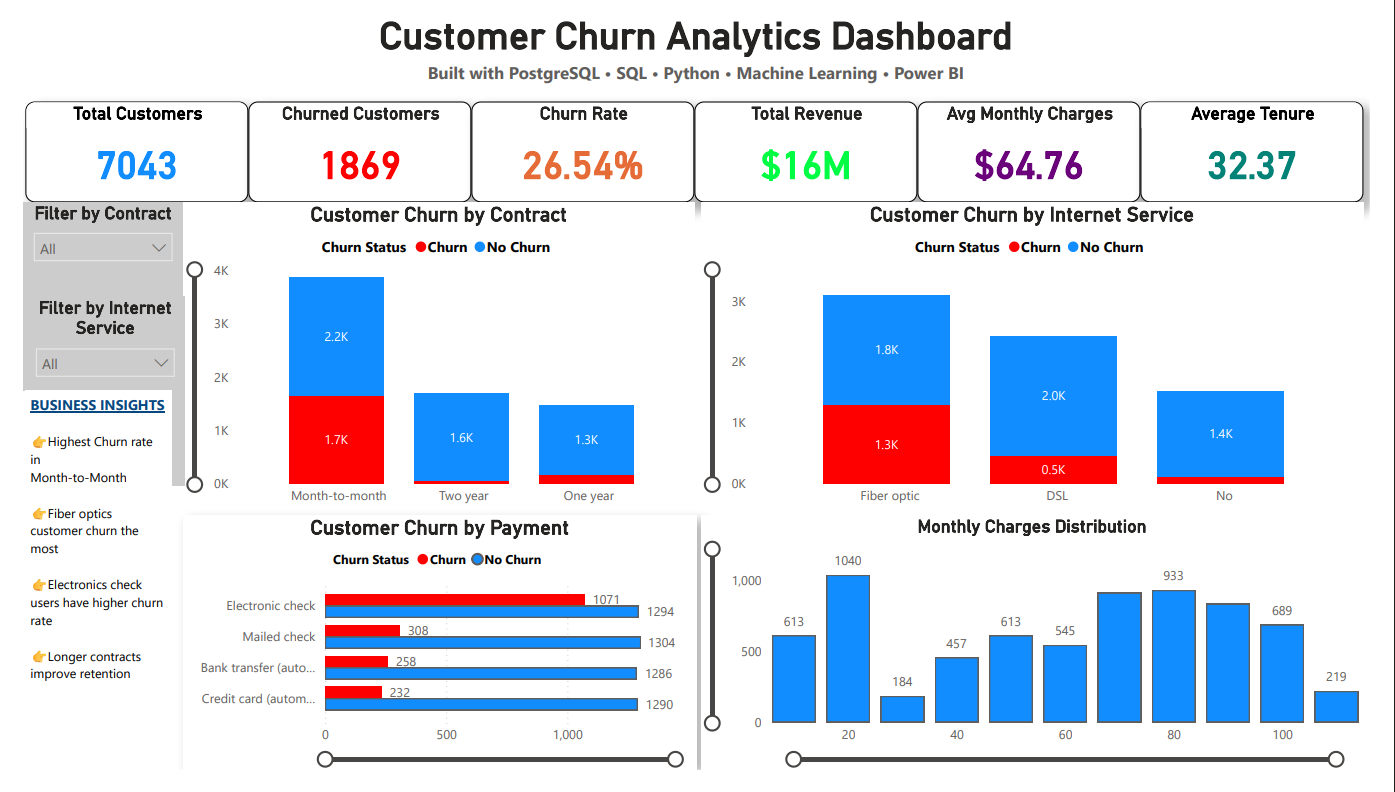

This screenshot's page, from the dashboard's own definition file:
{"tool":"powerbi","page":{"name":"Executive Dashboard","canvas":[1280,720],"ordinal":0},"visuals":[{"type":"card","title":"Total Customers","fields":{"Values":["customer_churn_cleaned.Total Customers"]},"box":[2,84,212,95.5],"z":0},{"type":"card","title":"Churned Customers","fields":{"Values":["customer_churn_cleaned.Churned Customers"]},"box":[213.7,84,212.1,95.5],"z":1000},{"type":"card","title":"Churn Rate","fields":{"Values":["customer_churn_cleaned.Churn Rate"]},"box":[425.9,84,212.1,95.5],"z":2000},{"type":"card","title":"Total Revenue","fields":{"Values":["customer_churn_cleaned.Total Revenue"]},"box":[638,84,212.1,95.5],"z":3000},{"type":"card","title":"Avg Monthly Charges","fields":{"Values":["customer_churn_cleaned.Average Monthly Charges"]},"box":[850.1,84,212.1,95.5],"z":4000},{"type":"card","title":"Average Tenure","fields":{"Values":["customer_churn_cleaned.Average Tenure"]},"box":[1062.2,84.2,212,95.5],"z":5000},{"type":"textbox","title":"Customer Churn Analytics Dashboard","box":[294.7,0,689.8,74.5],"z":6000},{"type":"columnChart","title":"Customer Churn by Contract","fields":{"Category":["customer_churn_cleaned.contract"],"Y":["CountNonNull(customer_churn_cleaned.customer_id)"],"Series":["customer_churn_cleaned.Churn Status"]},"box":[152.2,179.7,485.8,297.9],"z":7000},{"type":"columnChart","title":"Customer Churn by Internet Service","fields":{"Category":["customer_churn_cleaned.internet_service"],"Y":["CountNonNull(customer_churn_cleaned.customer_id)"],"Series":["customer_churn_cleaned.Churn Status"]},"box":[644.5,179.7,629.9,297.9],"z":8000},{"type":"clusteredBarChart","title":"Customer Churn by Payment ","fields":{"Category":["customer_churn_cleaned.payment_method"],"Series":["customer_churn_cleaned.Churn Status"],"Y":["CountNonNull(customer_churn_cleaned.customer_id)"]},"box":[152.2,477.7,487.4,242.9],"z":9000},{"type":"columnChart","title":"Monthly Charges Distribution","fields":{"Category":["customer_churn_cleaned.monthly_charges (bins)"],"Y":["CountNonNull(customer_churn_cleaned.customer_id)"]},"box":[644.5,477.7,629.9,242.9],"z":10000},{"type":"slicer","title":"Filter by Contract","fields":{"Values":["customer_churn_cleaned.contract"]},"box":[0,179.7,152.2,179.7],"z":11000},{"type":"slicer","title":"Filter by Internet Service","fields":{"Values":["customer_churn_cleaned.internet_service"]},"box":[1.6,270.4,152.2,179.7],"z":12000},{"type":"textbox","box":[1.6,359.5,139.3,361.1],"z":13000}]}

Visuals, with their boxes in screenshot pixels (x1, y1, x2, y2), scaled from the page's 1280x720 canvas onto the 1395x792 screenshot:
"Total Customers" card: l=2, t=92, r=233, b=197
"Churned Customers" card: l=233, t=92, r=464, b=197
"Churn Rate" card: l=464, t=92, r=695, b=197
"Total Revenue" card: l=695, t=92, r=926, b=197
"Avg Monthly Charges" card: l=926, t=92, r=1158, b=197
"Average Tenure" card: l=1158, t=93, r=1389, b=198
"Customer Churn Analytics Dashboard" textbox: l=321, t=0, r=1073, b=82
"Customer Churn by Contract" columnChart: l=166, t=198, r=695, b=525
"Customer Churn by Internet Service" columnChart: l=702, t=198, r=1389, b=525
"Customer Churn by Payment " clusteredBarChart: l=166, t=525, r=697, b=791
"Monthly Charges Distribution" columnChart: l=702, t=525, r=1389, b=791
"Filter by Contract" slicer: l=0, t=198, r=166, b=395
"Filter by Internet Service" slicer: l=2, t=297, r=168, b=495
textbox: l=2, t=395, r=154, b=791
